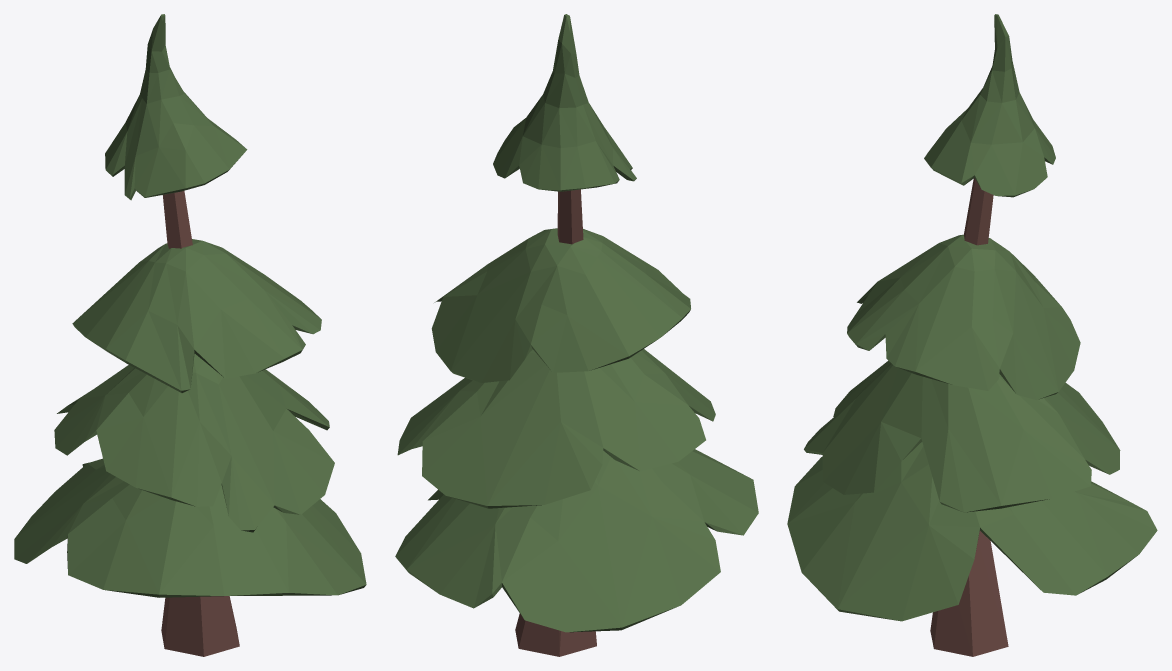
The model's file is PineTree_2.lod1.glb.
3 renders of one model, left to right at view 1: azimuth 30°, elevation 25°; view 2: azimuth 150°, elevation 25°; view 3: azimuth 270°, elevation 25°, orthographic. The views are drawn at different scales.
Visible parts, largest first — view 1: PineTree_2; view 2: PineTree_2; view 3: PineTree_2.
Part boxes in pixels (box(x1,y1,x2,y2)): PineTree_2: box(14, 14, 366, 656); PineTree_2: box(395, 14, 758, 656); PineTree_2: box(787, 14, 1157, 656).
Bounding box in the file's own units: 1.79 × 3.56 × 1.95.
